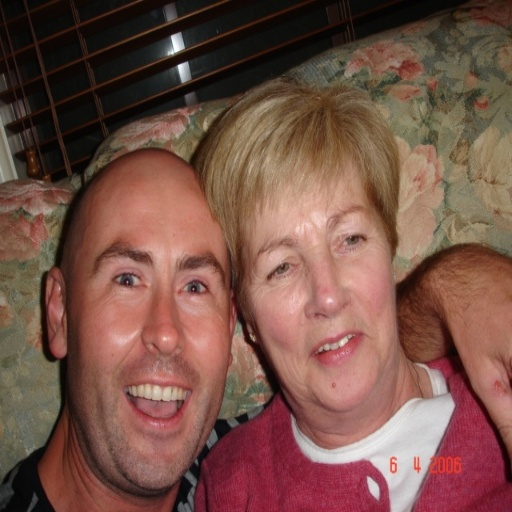hand: (432, 240, 511, 460)
